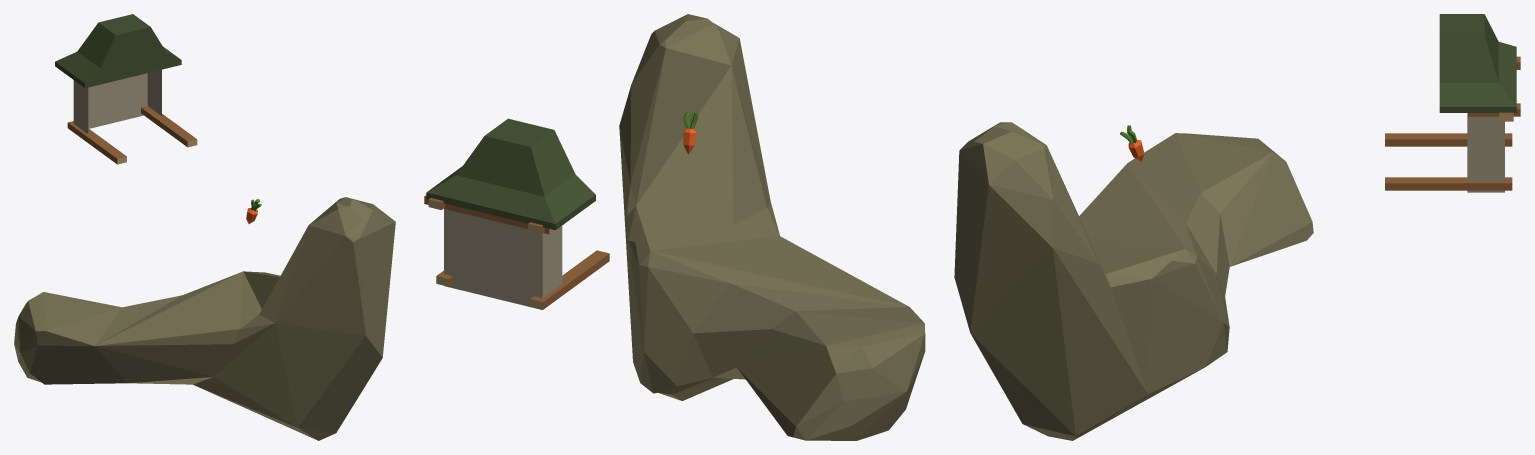
3 renders of one model, left to right at view 1: azimuth 30°, elevation 25°; view 2: azimuth 150°, elevation 25°; view 3: azimuth 270°, elevation 25°, orthographic. The views are drawn at different scales.
Parts seen in each view (by area): view 1: Box15534_rock2_0, Box15688_roof1_0, Box15687_wall3_0, Box15684_brown_0; view 2: Box15534_rock2_0, Box15688_roof1_0, Box15687_wall3_0, Box15684_brown_0, Box15690_brown_0; view 3: Box15534_rock2_0, Box15688_roof1_0, Box15684_brown_0, Box15687_wall3_0.
Boxes of the visible parts, left/top/right/bottom form: Box15534_rock2_0: left=14, top=197, right=395, bottom=440; Box15688_roof1_0: left=55, top=14, right=181, bottom=88; Box15687_wall3_0: left=73, top=69, right=161, bottom=133; Box15684_brown_0: left=67, top=106, right=196, bottom=163; Box15534_rock2_0: left=619, top=14, right=925, bottom=440; Box15688_roof1_0: left=426, top=118, right=595, bottom=230; Box15687_wall3_0: left=444, top=209, right=562, bottom=309; Box15684_brown_0: left=437, top=250, right=609, bottom=309; Box15690_brown_0: left=424, top=195, right=549, bottom=234; Box15534_rock2_0: left=954, top=122, right=1313, bottom=440; Box15688_roof1_0: left=1439, top=14, right=1516, bottom=112; Box15684_brown_0: left=1385, top=133, right=1512, bottom=190; Box15687_wall3_0: left=1467, top=113, right=1504, bottom=192.
Bounding box in the file's own units: 1407 × 1452 × 1904.
